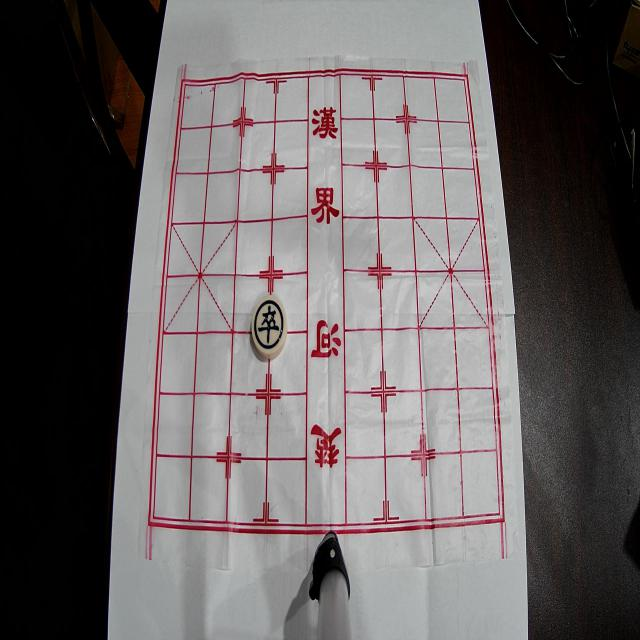black-soldier: (252, 296, 287, 358)
